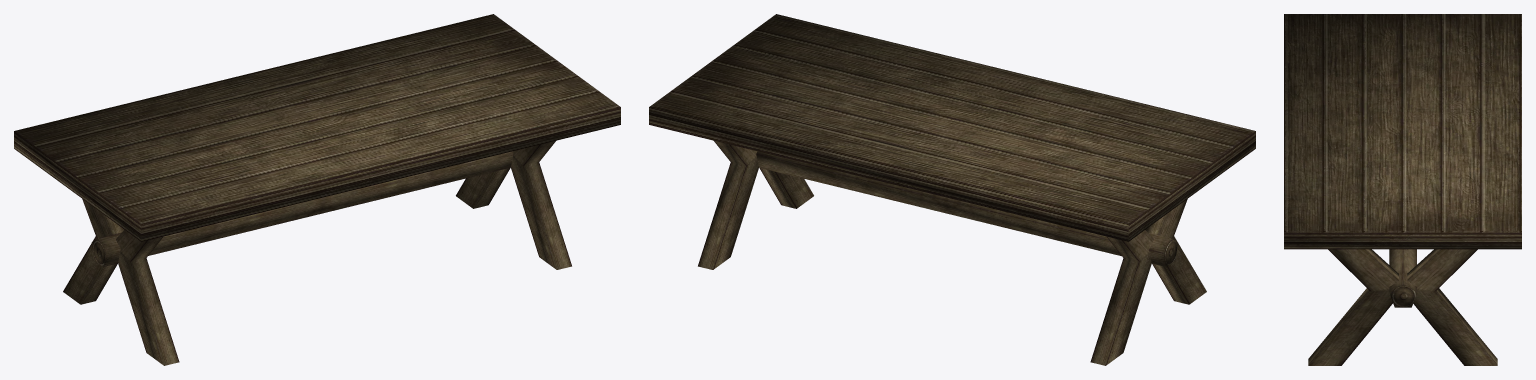
Rendered from GS_LOB_TABLE_HEAVY_BROWN_01_KOZA.glb.
3 views of the same model, side by side, from view 1: azimuth 30°, elevation 25°; view 2: azimuth 150°, elevation 25°; view 3: azimuth 270°, elevation 25° (orthographic). The views are drawn at different scales.
Parts seen in each view (by area): view 1: Mesh; view 2: Mesh; view 3: Mesh.
Part boxes in pixels (left/top/right/bottom): Mesh: left=14, top=14, right=620, bottom=365; Mesh: left=649, top=14, right=1255, bottom=365; Mesh: left=1284, top=14, right=1521, bottom=365.
Bounding box in the file's own units: 2.82 × 0.9 × 1.3.
3 materials, 3 textured.
